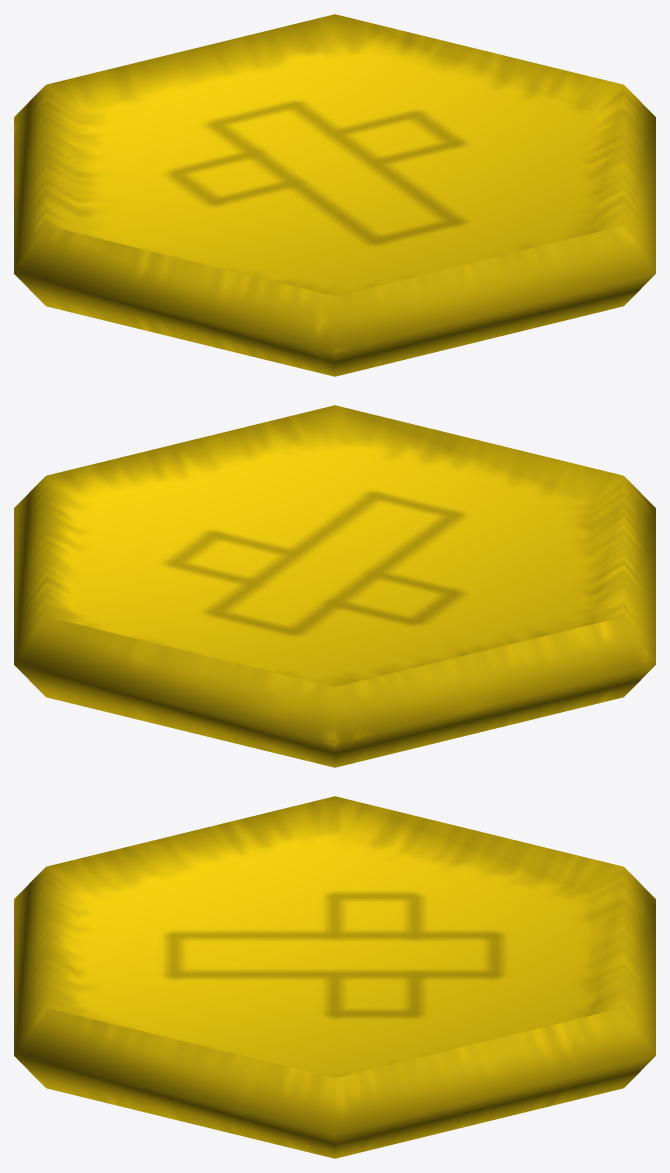
File: coin.glb
3 renders of one model, top to bottom at view 1: azimuth 30°, elevation 25°; view 2: azimuth 150°, elevation 25°; view 3: azimuth 270°, elevation 25°, orthographic.
Visible parts, largest first — view 1: Coin; view 2: Coin; view 3: Coin.
Part boxes in pixels (left/top/right/bottom): Coin: left=14, top=14, right=655, bottom=376; Coin: left=14, top=405, right=655, bottom=767; Coin: left=14, top=796, right=655, bottom=1158.
Size of the model in its own units: 0.6 by 0.072 by 0.5196.
Materials: 1 (1 with a texture image).
